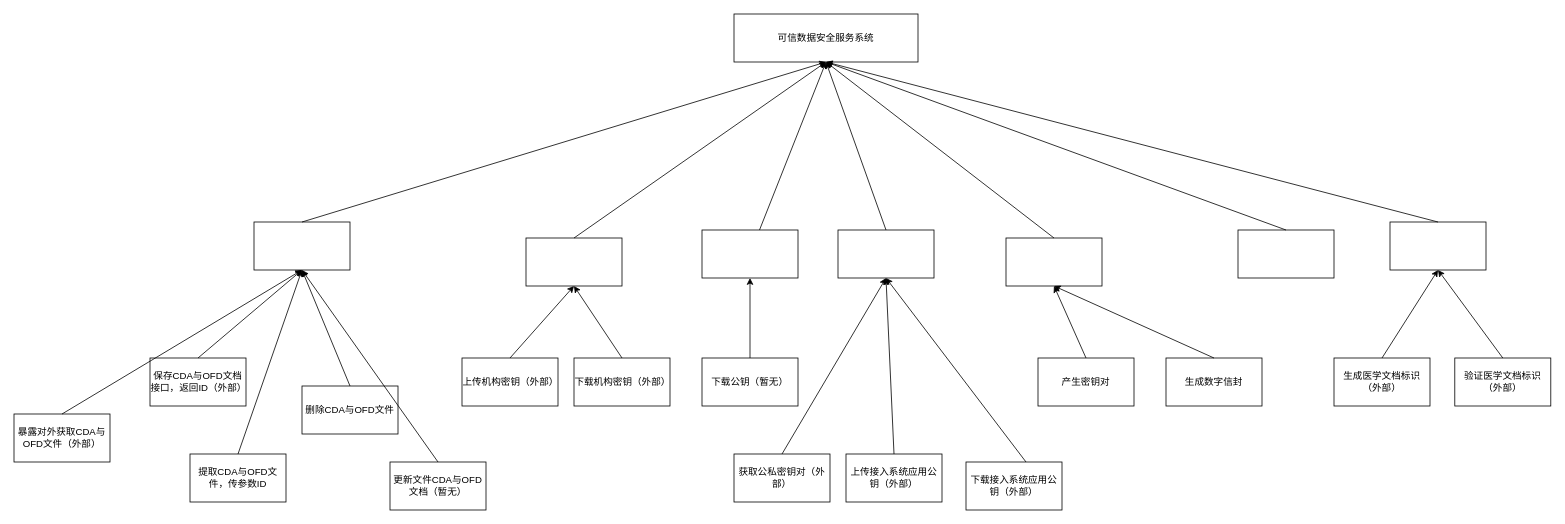
Some shapes in this 1565 by 524 pixel diagram are drawn without their labels. Each missing label, with the centre of its shape:
一体机证书: pixel 749 253
医学文档标识: pixel 1437 245
密钥: pixel 885 253
接入系统公钥管理: pixel 573 261
数字信封SDK: pixel 1053 261
文件存储: pixel 301 245
日志审计（暂无）: pixel 1285 253
